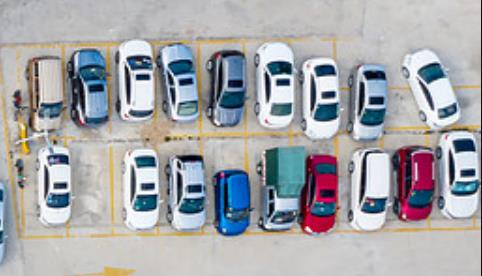car: (399, 47, 462, 129), (257, 144, 307, 231), (253, 38, 299, 131), (436, 131, 482, 224), (296, 56, 342, 141), (348, 147, 393, 233), (113, 38, 159, 122), (66, 46, 112, 129), (155, 41, 201, 124), (31, 143, 76, 227), (120, 148, 163, 234), (23, 52, 67, 135), (204, 47, 248, 128), (164, 154, 209, 231), (348, 62, 390, 144), (394, 143, 436, 224), (302, 150, 341, 236), (213, 169, 255, 238)
